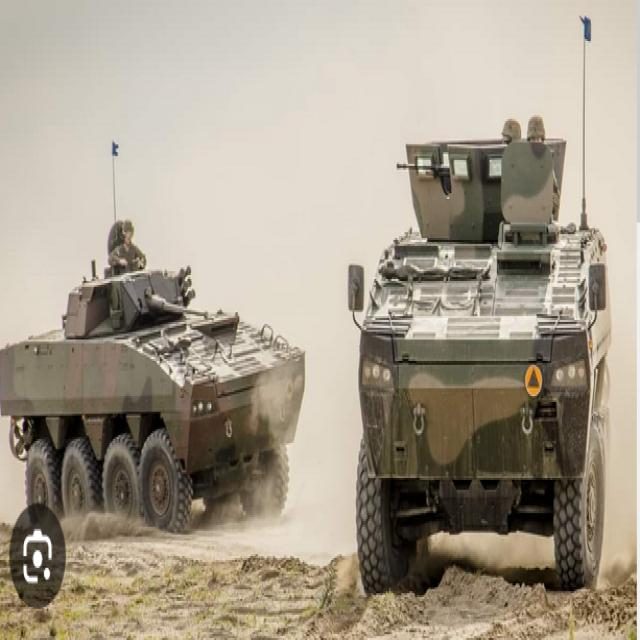MIL_APC: (351, 157, 619, 591), (0, 240, 320, 546)
